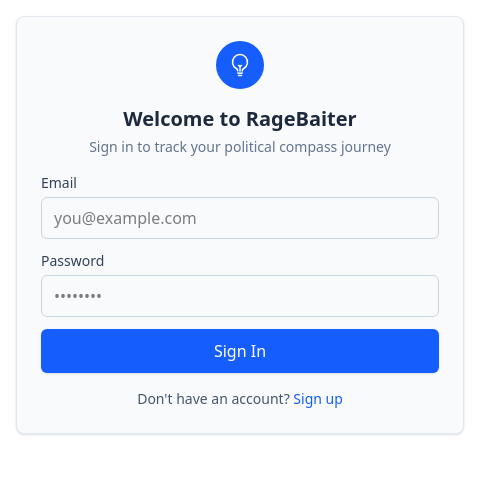
Test: AuthGate › shows backend validation errors in the gate
Check: the button "Sign In" is shown, box [41,329,439,373]
In the field labelled "Email": (240, 218) [41,197,439,239], type "user@example.com"
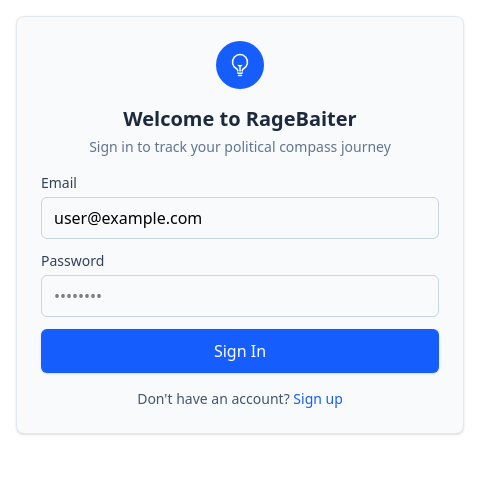
In the password field labelled "Password": (240, 296) [41,275,439,317], type "wrong-pass"
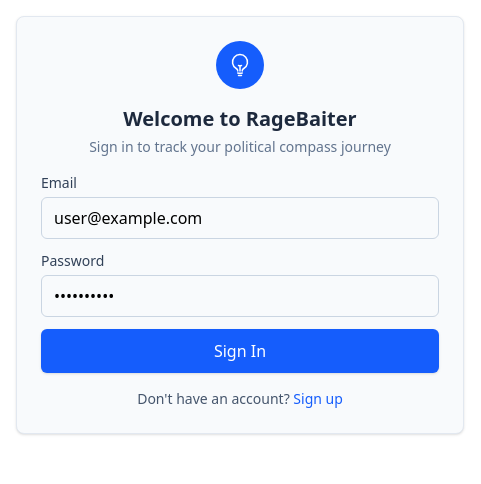
Click the button "Sign In": (240, 351) [41,329,439,373]
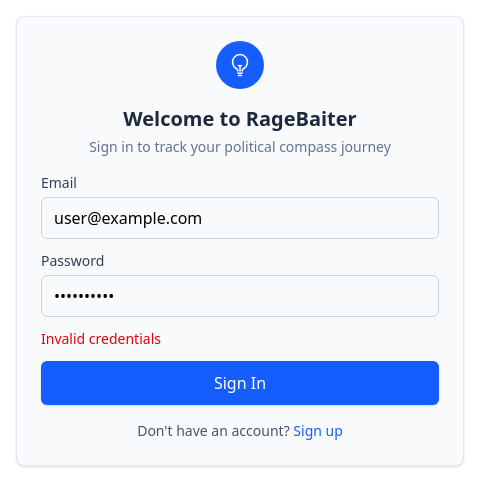
Check: the text "Invalid credentials" is shown, box [41,329,161,348]
